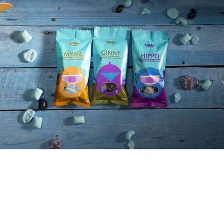snack: (123, 24, 174, 113), (48, 24, 95, 111), (87, 22, 133, 109)
